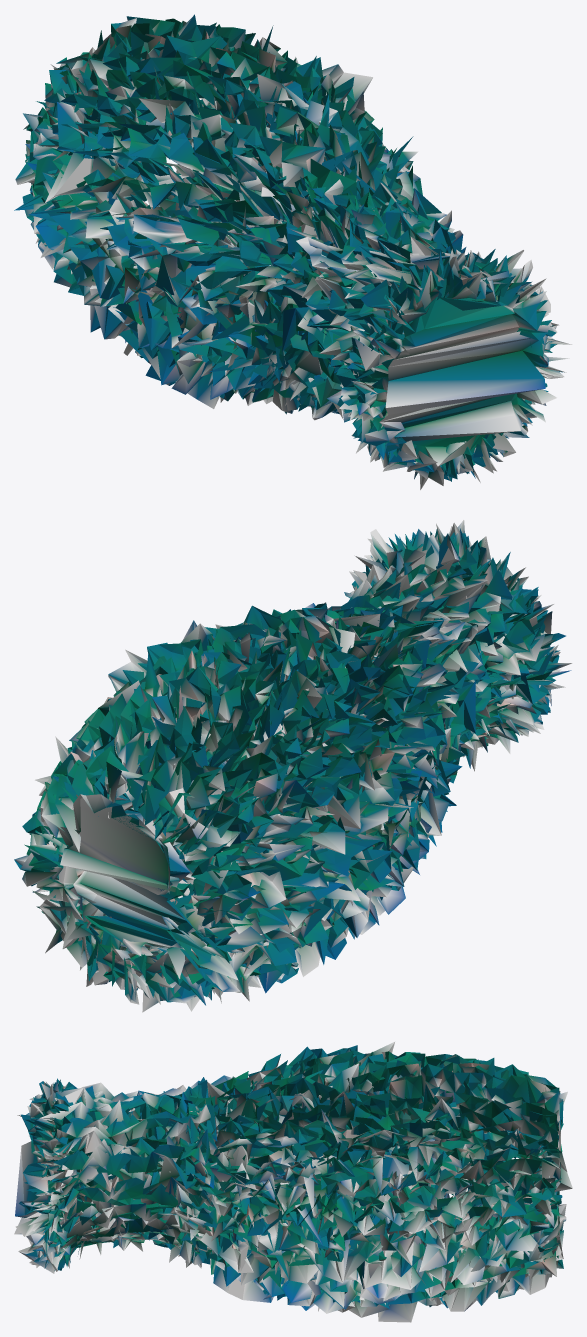
File: lamp_shade_10_final300.obj
The picture shows the model from 3 angles, top to bottom: view 1: azimuth 30°, elevation 25°; view 2: azimuth 150°, elevation 25°; view 3: azimuth 270°, elevation 25°; orthographic projection. The views are drawn at different scales.
Size of the model in its own units: 1.01 by 0.9486 by 1.94.
